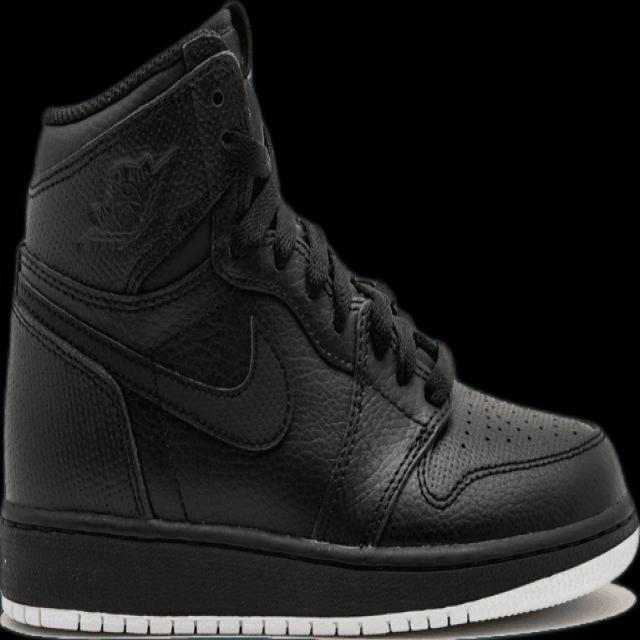J1_InsoleChar: (0, 0, 639, 639)
J1_ShoeLogo: (76, 143, 179, 249)
J1_StitchPattern: (8, 238, 606, 547), (312, 277, 605, 547), (228, 197, 453, 543), (309, 276, 447, 543), (9, 272, 155, 521), (259, 205, 437, 388), (414, 381, 605, 511), (40, 23, 235, 126), (2, 600, 474, 639), (307, 290, 378, 543), (362, 398, 452, 547), (267, 209, 358, 329), (346, 276, 441, 388)
